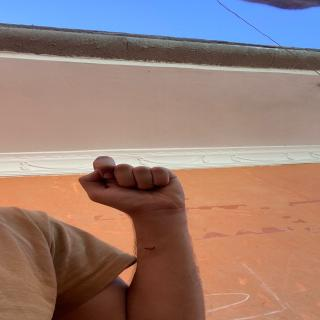FAA: (76, 151, 201, 220)
